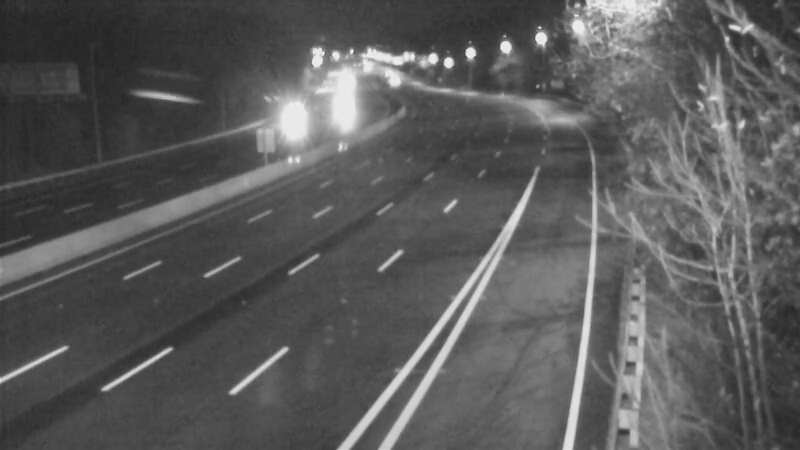vehicle: (369, 54, 419, 104), (257, 93, 307, 143), (319, 79, 369, 129)
